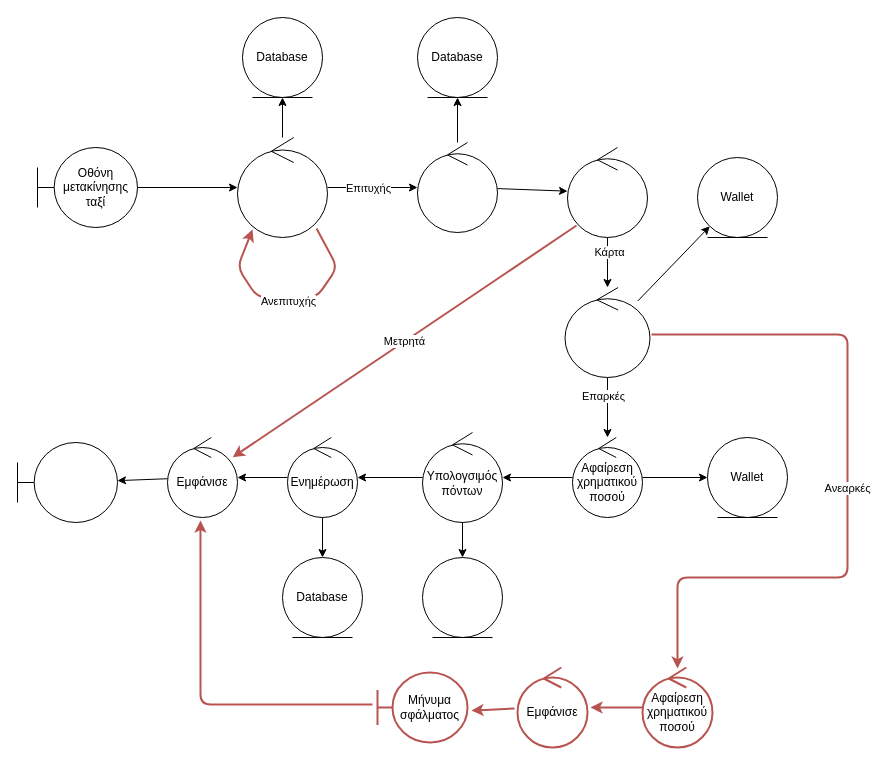
Image size: 888x766. Some labels were removed from this diagram. Here are the shapes that lost their labels. From the top down, the centre of each, then its label:
At pixel 282 187: "Έλεγχος ολοκλήρωσης μετακίνησης".
At pixel 457 187: "Ανάκτηση κόστους μετακίνησης".
At pixel 607 192: "Έλεγχος τρόπου πληρωμής".
At pixel 607 332: "Έχει ο πελάτης επαρκές υπόλοιπο;".
At pixel 67 482: "Αρχική οθόνη".
At pixel 462 597: "Customer".
